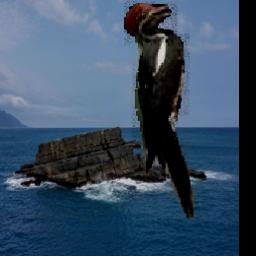Woodpecker: (124, 1, 193, 218)
